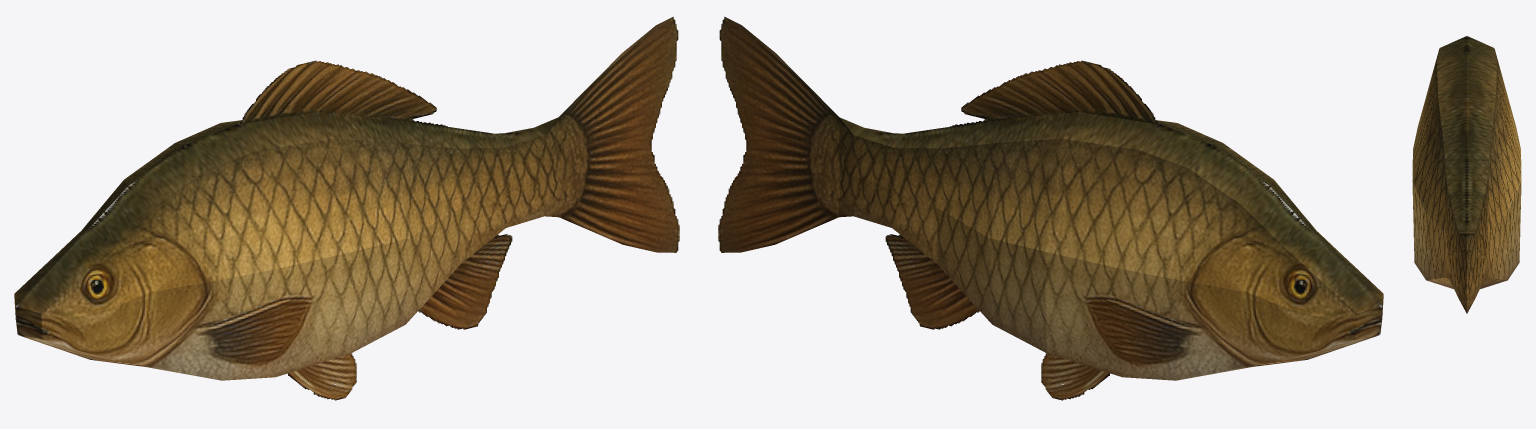
File: Carp.fbx
3 renders of one model, left to right at view 1: azimuth 30°, elevation 25°; view 2: azimuth 150°, elevation 25°; view 3: azimuth 270°, elevation 25°, orthographic. The views are drawn at different scales.
Parts seen in each view (by area): view 1: Carp; view 2: Carp; view 3: Carp.
Boxes of the visible parts, bbox=[...] form: Carp: bbox=[14, 16, 679, 400]; Carp: bbox=[718, 16, 1383, 400]; Carp: bbox=[1412, 36, 1521, 313].
Bounding box in the file's own units: 96.78 × 50.88 × 17.
